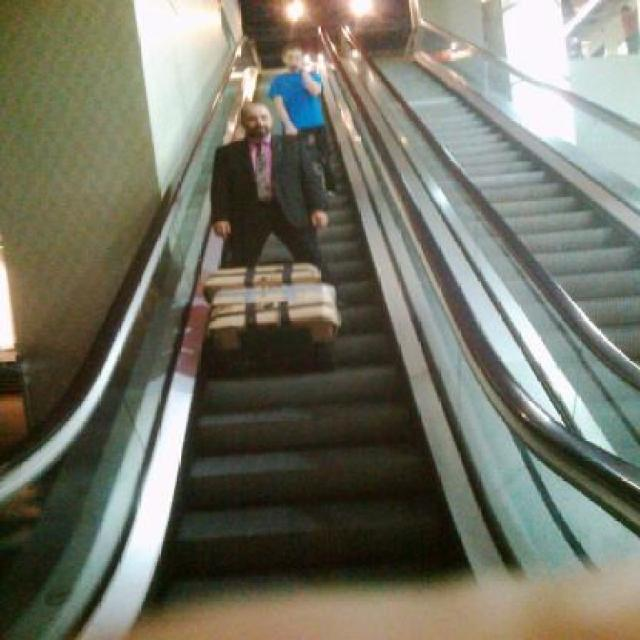stair: (122, 71, 470, 640), (355, 57, 640, 472)
